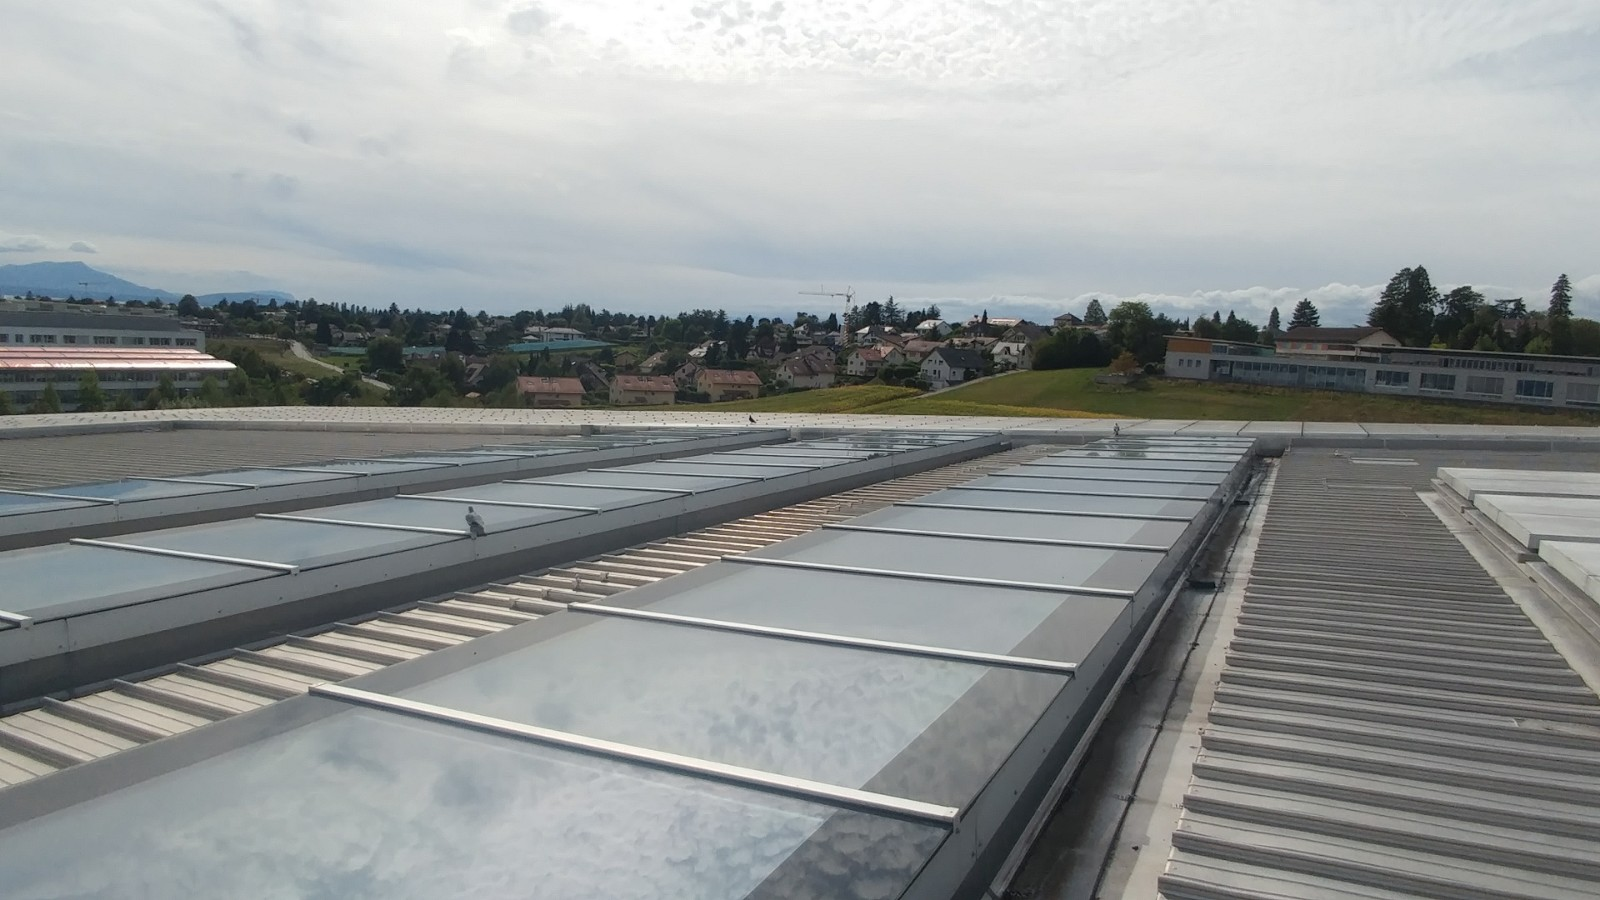Pigeon: (459, 503, 488, 543), (1110, 419, 1125, 438), (742, 414, 762, 427)
